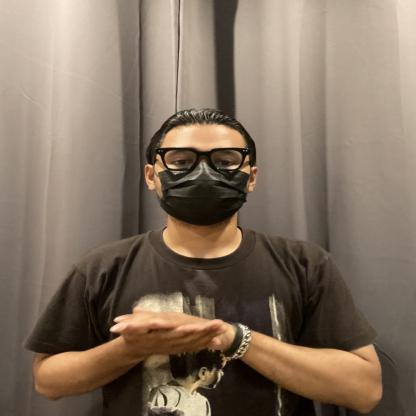Love: (70, 278, 274, 372)
